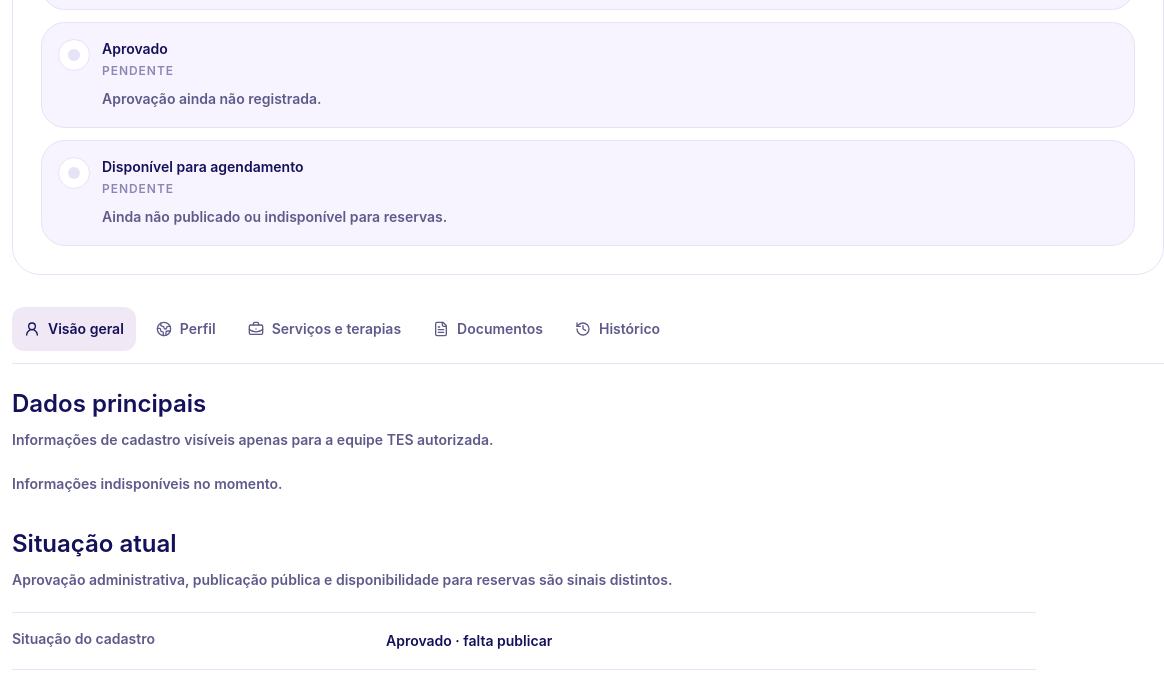
Test: admin operation detail pages › reveals the published profile through the Profile tab
(page scrolled)
Click the tab "Perfil": (186, 329) x1=144 y1=307 x2=228 y2=351
(page scrolled)
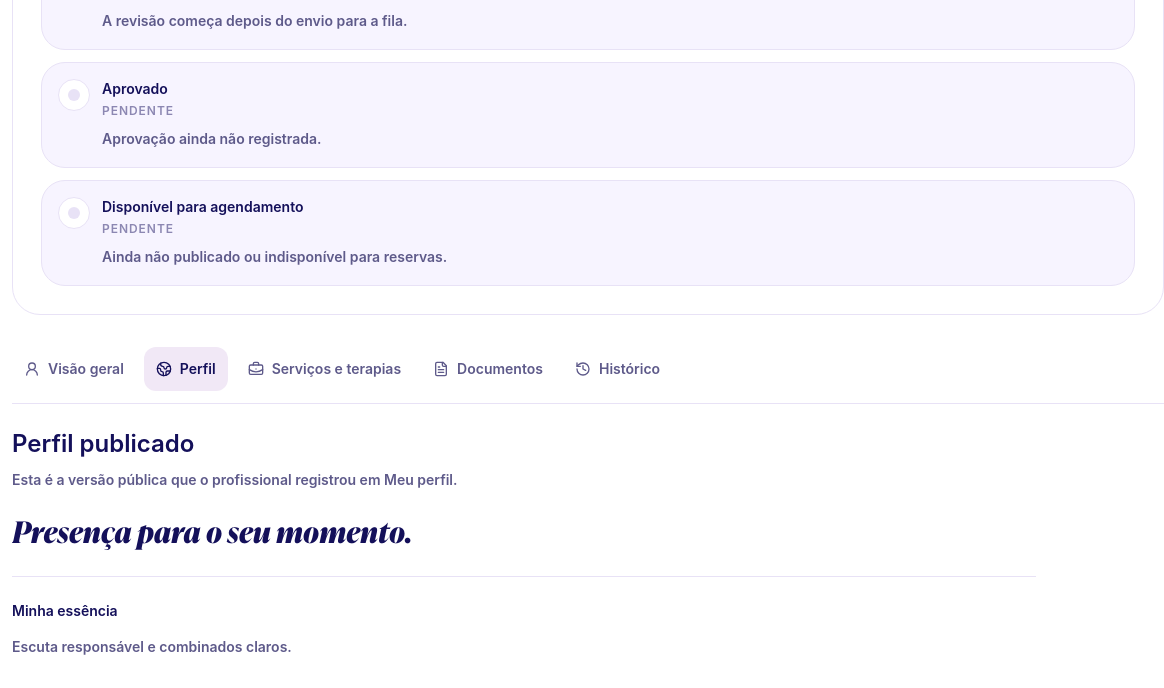
Now the heading "Perfil publicado" is shown, box x1=12 y1=429 x2=194 y2=458
Now the text "Presença para o seu momento." is shown, box x1=12 y1=508 x2=412 y2=552
